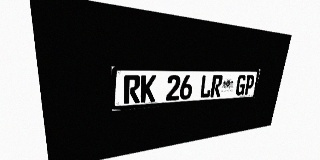2: (166, 75, 181, 101)
6: (179, 75, 193, 100)
G: (235, 75, 247, 96)
K: (140, 75, 156, 103)
L: (199, 75, 213, 98)
P: (243, 75, 255, 95)
R: (124, 75, 140, 104), (210, 75, 223, 97)
